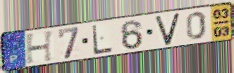0: (185, 11, 209, 42)
6: (120, 19, 144, 51)
7: (57, 25, 81, 61)
H: (24, 29, 56, 65)
L: (91, 24, 114, 56)
V: (154, 11, 182, 47)
